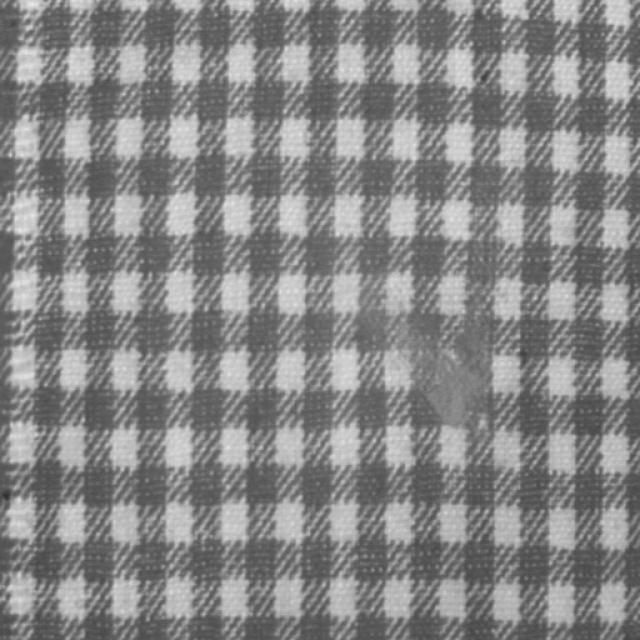Stain-Defect: (412, 342, 491, 429)
